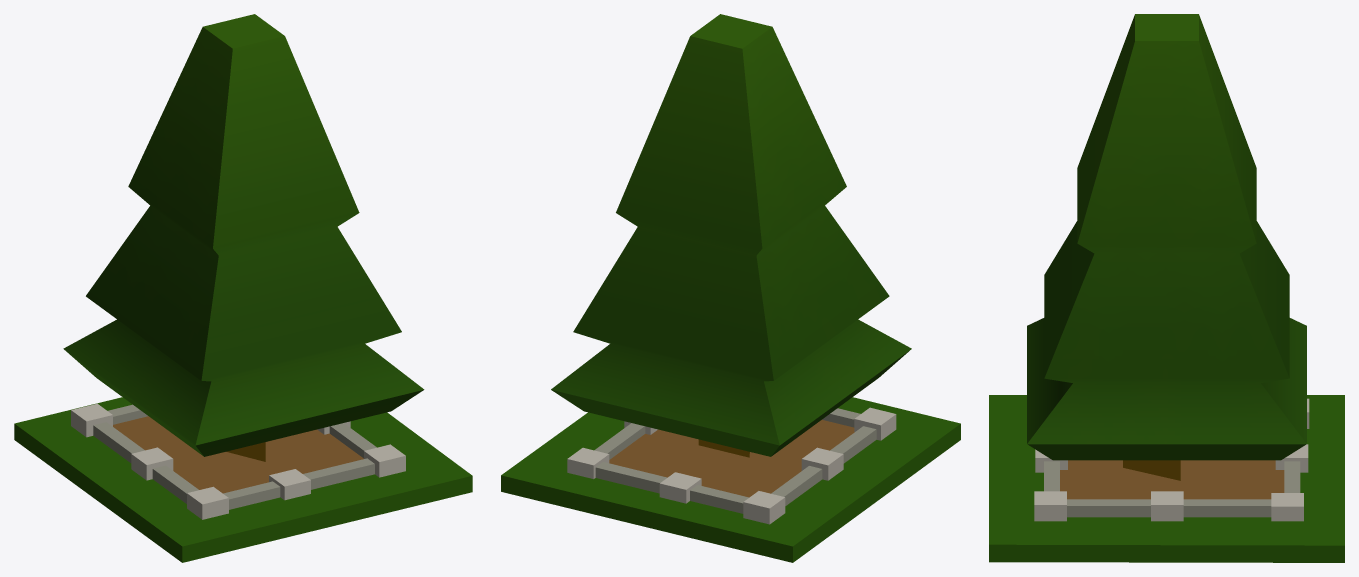
File: park_pinetree.fbx
3 views of the same model, side by side, from view 1: azimuth 30°, elevation 25°; view 2: azimuth 150°, elevation 25°; view 3: azimuth 270°, elevation 25° (orthographic). The views are drawn at different scales.
Visible parts, largest first — view 1: tree:tree:treetemp:treetemp:polySurface11; view 2: tree:tree:treetemp:treetemp:polySurface11; view 3: tree:tree:treetemp:treetemp:polySurface11.
Boxes of the visible parts, <box> form: tree:tree:treetemp:treetemp:polySurface11: <box>14,14,472,562</box>; tree:tree:treetemp:treetemp:polySurface11: <box>501,14,960,562</box>; tree:tree:treetemp:treetemp:polySurface11: <box>989,14,1344,562</box>.
Bounding box in the file's own units: 100 × 144 × 100.
1 material, 1 textured.
